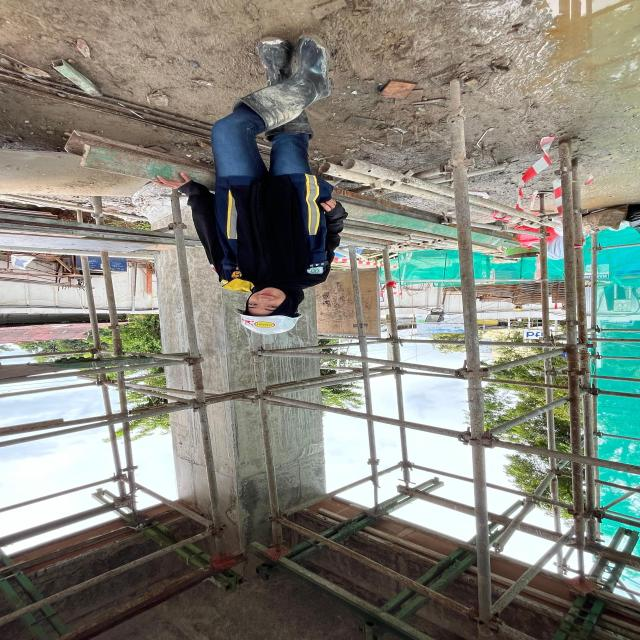safetyhelmet: (231, 256, 337, 346)
